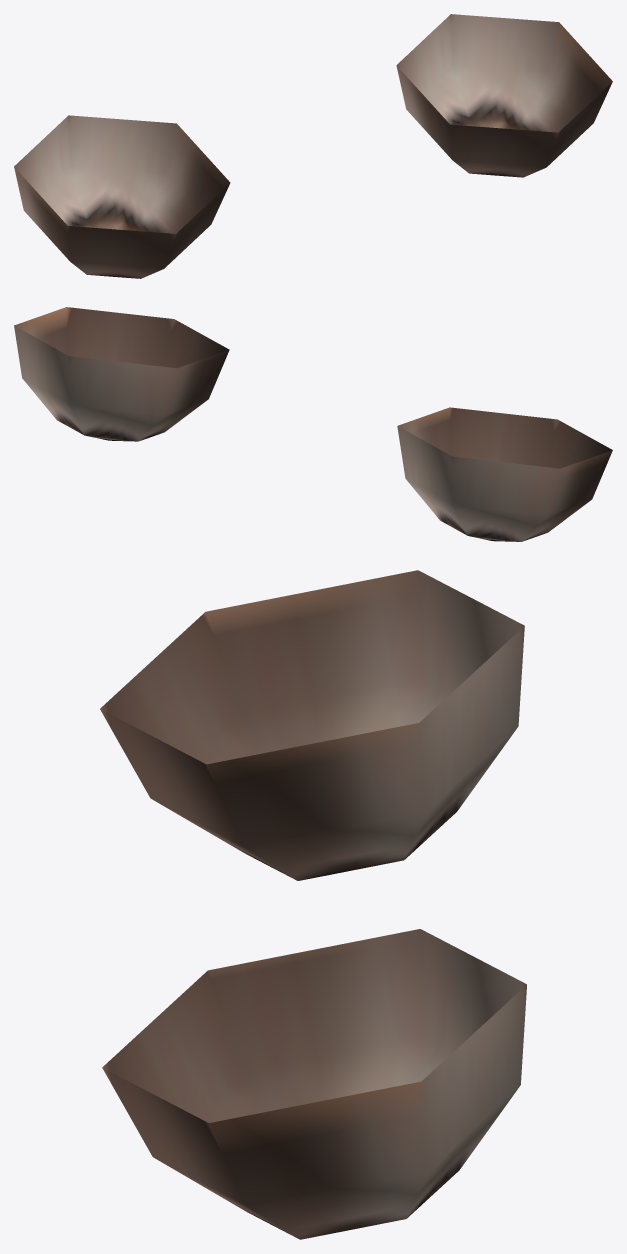
The model's file is EYES.obj.
The picture shows the model from 3 angles, top to bottom: view 1: azimuth 30°, elevation 25°; view 2: azimuth 150°, elevation 25°; view 3: azimuth 270°, elevation 25°; orthographic projection. The views are drawn at different scales.
Parts seen in each view (by area): view 1: objL06A_eye_L, objL06A_eye_R; view 2: objL06A_eye_L, objL06A_eye_R; view 3: objL06A_eye_R, objL06A_eye_L.
Boxes of the visible parts, x1=… form: objL06A_eye_L: x1=396, y1=14, x2=612, y2=177; objL06A_eye_R: x1=14, y1=115, x2=230, y2=278; objL06A_eye_L: x1=14, y1=307, x2=229, y2=441; objL06A_eye_R: x1=397, y1=407, x2=612, y2=541; objL06A_eye_R: x1=100, y1=570, x2=524, y2=880; objL06A_eye_L: x1=102, y1=929, x2=526, y2=1239.
Bounding box in the file's own units: 0.5436 × 0.1172 × 0.1841.
